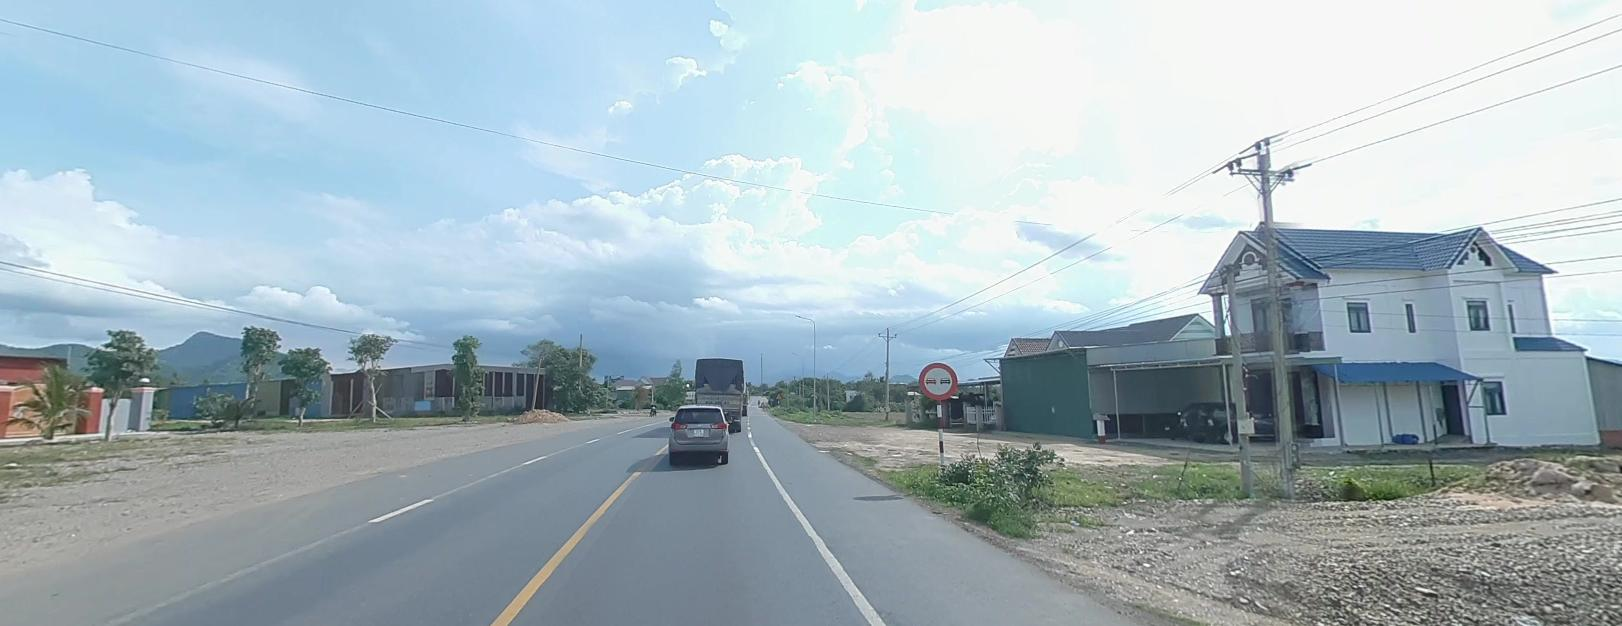Cam con lai: (917, 360, 958, 398)
Nguy hiem: (774, 391, 782, 398)
